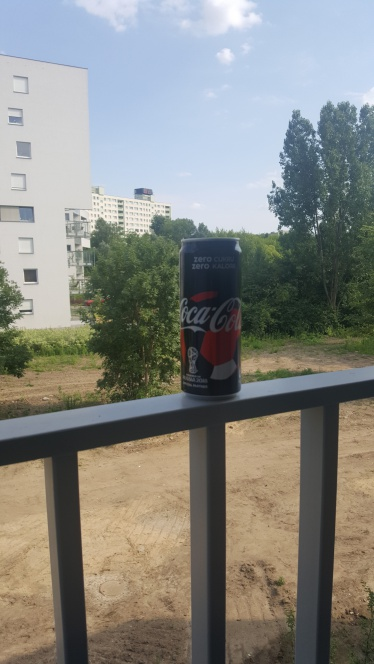colazero: (169, 224, 252, 403)
